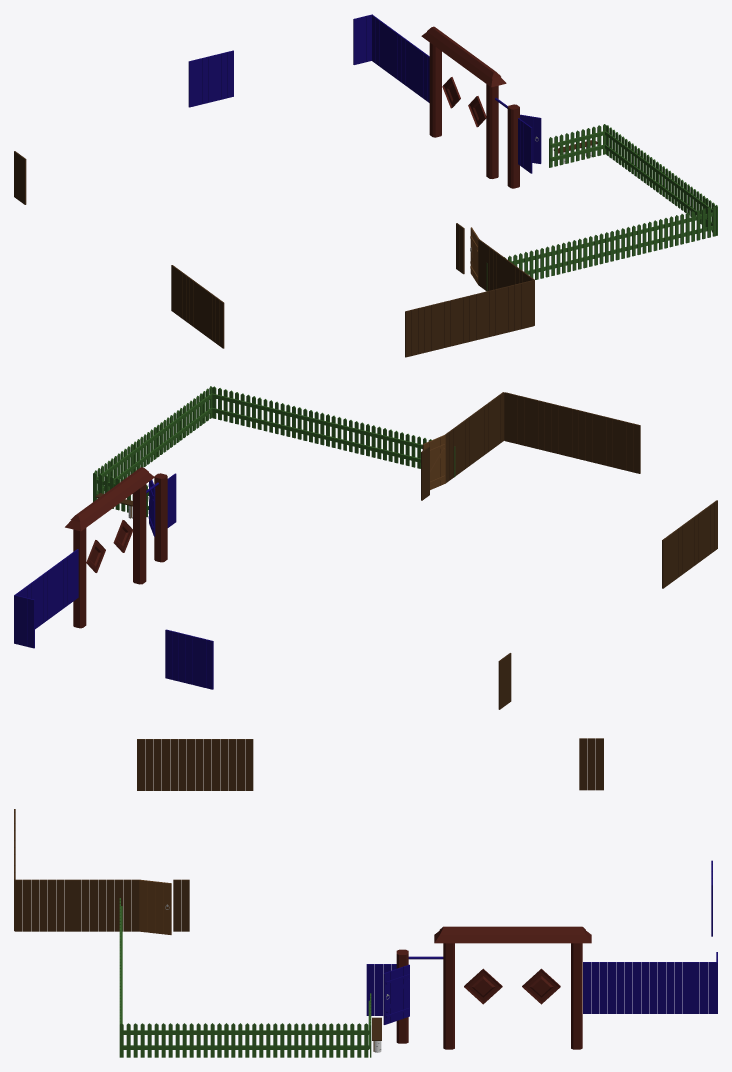
File: Заборы.fbx
The picture shows the model from 3 angles, top to bottom: view 1: azimuth 30°, elevation 25°; view 2: azimuth 150°, elevation 25°; view 3: azimuth 270°, elevation 25°; orthographic projection. The views are drawn at different scales.
Parts seen in each view (by area): view 1: Куб.133, Куб.215, Куб.235, Куб.234, Куб.228, Куб.131, Куб.148, Куб.139, Куб.236, Куб.230, Куб.231, Куб.209 (+1 smaller); view 2: Куб.133, Куб.215, Куб.235, Куб.139, Куб.234, Куб.131, Куб.148, Куб.228, Куб.230, Куб.237, Куб.209, Куб.236; view 3: Куб.139, Куб.215, Куб.228, Куб.234, Куб.131, Куб.237, Куб.226, Куб.209, Куб.231.
Boxes of the visible parts, <box> form: Куб.133: <box>405,280,533,357</box>; Куб.215: <box>421,26,519,188</box>; Куб.235: <box>486,206,716,290</box>; Куб.234: <box>605,125,717,235</box>; Куб.228: <box>372,15,429,102</box>; Куб.131: <box>171,265,224,348</box>; Куб.148: <box>188,50,233,107</box>; Куб.139: <box>456,223,534,325</box>; Куб.236: <box>549,124,606,167</box>; Куб.230: <box>353,14,372,64</box>; Куб.231: <box>518,118,532,173</box>; Куб.209: <box>14,151,26,204</box>; Куб.133: <box>504,392,640,473</box>; Куб.215: <box>65,467,167,628</box>; Куб.235: <box>212,386,455,477</box>; Куб.139: <box>421,392,504,500</box>; Куб.234: <box>94,386,212,499</box>; Куб.131: <box>662,500,717,588</box>; Куб.148: <box>165,629,213,689</box>; Куб.228: <box>15,549,78,629</box>; Куб.230: <box>14,595,34,648</box>; Куб.237: <box>422,435,445,489</box>; Куб.209: <box>498,653,511,709</box>; Куб.236: <box>93,472,148,517</box>; Куб.139: <box>14,879,189,931</box>; Куб.215: <box>396,926,591,1049</box>; Куб.228: <box>583,962,716,1013</box>; Куб.234: <box>119,1023,369,1057</box>; Куб.131: <box>137,739,253,790</box>; Куб.237: <box>139,879,171,934</box>; Куб.226: <box>383,964,409,1024</box>; Куб.209: <box>579,738,603,790</box>; Куб.231: <box>366,964,396,1015</box>.
Bounding box in the file's own units: 1108 × 230 × 1230.
